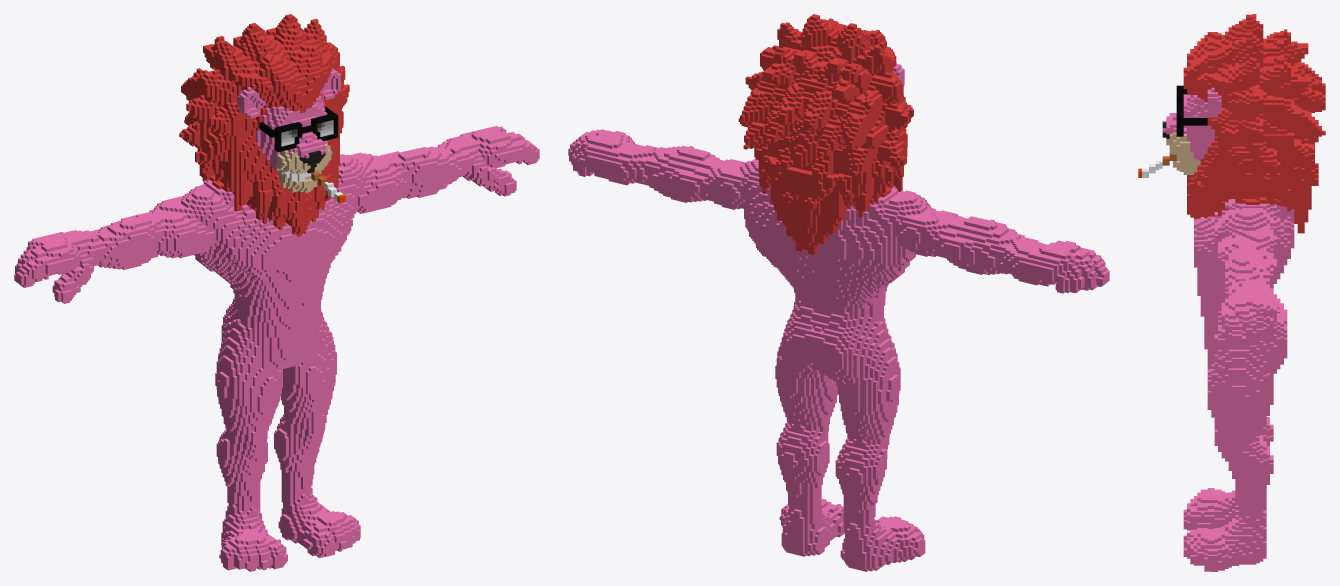
The model's file is 851-DbKEItQh.glb.
3 views of the same model, side by side, from view 1: azimuth 30°, elevation 25°; view 2: azimuth 150°, elevation 25°; view 3: azimuth 270°, elevation 25° (orthographic). The views are drawn at different scales.
Parts seen in each view (by area): view 1: cigarette; view 2: cigarette; view 3: cigarette.
Boxes of the visible parts, left/top/right/bottom form: cigarette: left=14, top=14, right=539, bottom=571; cigarette: left=568, top=14, right=1109, bottom=571; cigarette: left=1138, top=14, right=1325, bottom=571.
Bounding box in the file's own units: 17.2 × 16.5 × 5.4.
4 materials, 4 textured.
